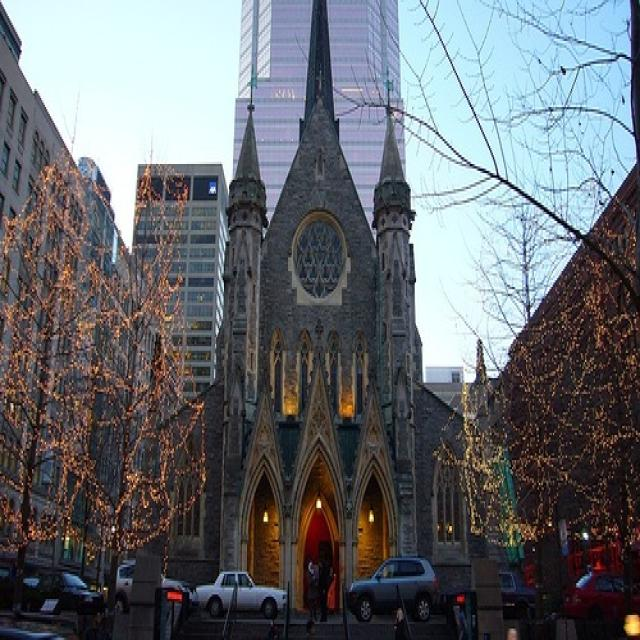car: (345, 555, 440, 625), (446, 566, 544, 620), (193, 570, 288, 623), (110, 562, 192, 619), (560, 566, 640, 623), (24, 566, 102, 616)
